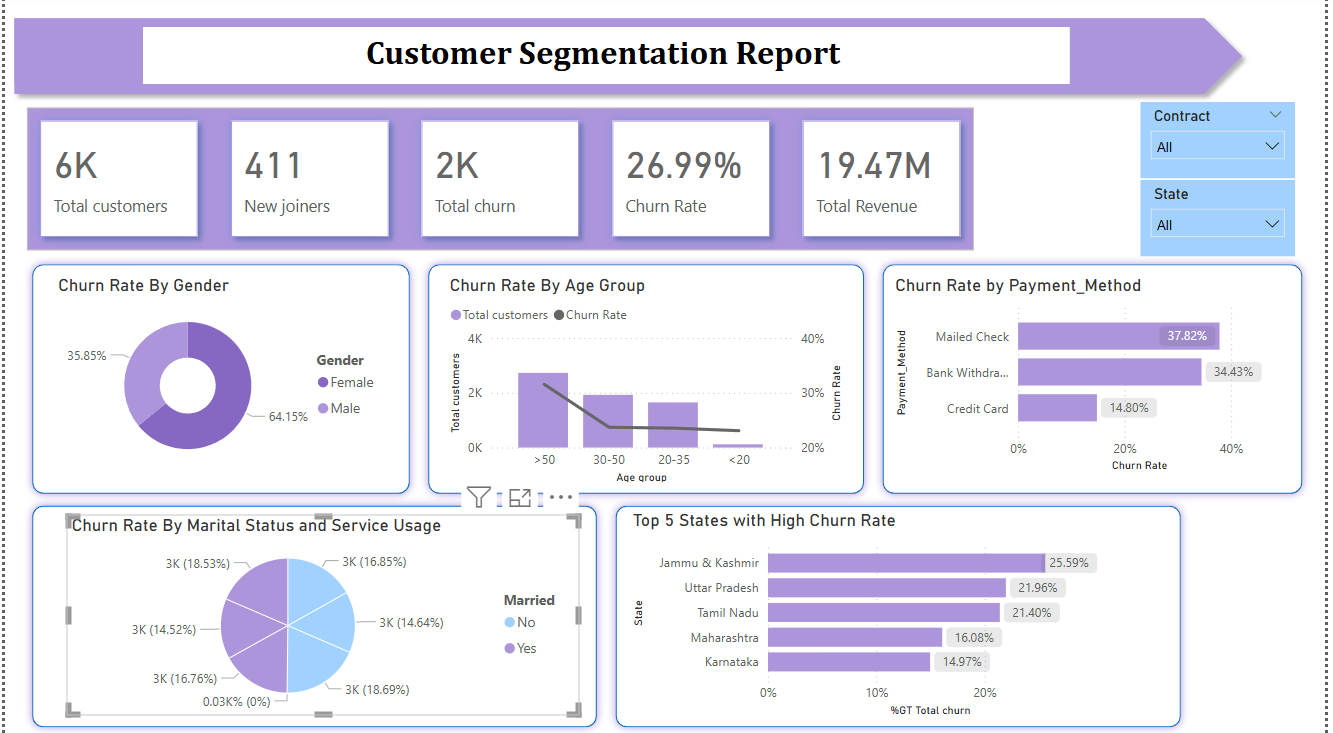

What the dashboard file says about the page in this screenshot:
{"tool":"powerbi","page":{"name":"Customer Seg","canvas":[1280,720],"ordinal":1},"visuals":[{"type":"shape","box":[17.1,253.9,384.2,240.8],"z":0},{"type":"donutChart","title":"Churn Rate By Gender","fields":{"Category":["prod_customer_churn.Gender"],"Y":["Exp_Measures.Total churn"]},"box":[46.3,272.8,326.8,195.6],"z":1000},{"type":"cardVisual","fields":{"Data":["Exp_Measures.Total customers","Exp_Measures.New joiners","Exp_Measures.Total churn","Exp_Measures.Churn Rate","Exp_Measures.Total Revenue"]},"box":[16.7,105.5,931.6,149.3],"z":2000},{"type":"shape","box":[0,14.2,1209.5,91.4],"z":3000},{"type":"shape","box":[401.3,253.9,440.8,240.8],"z":4000},{"type":"shape","box":[842.1,253.9,425,240.8],"z":5000},{"type":"shape","box":[17.1,488.2,565.8,232.9],"z":6000},{"type":"lineStackedColumnComboChart","title":"Churn Rate By Age Group","fields":{"Category":["Age group_table.Age group"],"Y":["Exp_Measures.Total customers"],"Y2":["Exp_Measures.Churn Rate"]},"box":[426.3,272.4,390.8,206.6],"z":7000},{"type":"barChart","fields":{"Category":["prod_customer_churn.Payment_Method"],"Y":["Exp_Measures.Churn Rate"]},"box":[858.2,272.8,377,195.6],"z":8000},{"type":"textbox","box":[133.8,32.2,899.4,55.3],"z":9000},{"type":"pieChart","title":"Churn Rate By Marital Status and Service Usage","fields":{"Y":["Exp_Measures.Total Phone serv users","Exp_Measures.Total Internet serv users","Exp_Measures.Total customers","Exp_Measures.Churn Rate"],"Category":["prod_customer_churn.Married"]},"box":[59.2,504.4,498,195.6],"z":10000},{"type":"shape","box":[584.2,487.7,566.1,232.9],"z":11000},{"type":"barChart","title":"Top 5 States with High Churn Rate","fields":{"Category":["prod_customer_churn.State"],"Y":["Exp_Measures.Total churn"]},"box":[604.7,500.5,468.4,204.6],"z":12000},{"type":"slicer","fields":{"Values":["prod_customer_churn.Contract"]},"box":[1102.5,105.4,150.2,73.8],"z":13000},{"type":"slicer","fields":{"Values":["Pivoting table.State"]},"box":[1102.5,180.4,150.2,73.8],"z":14000}]}

Visuals, with their boxes in screenshot pixels (x1, y1, x2, y2), scaled from the page's 1280x720 canvas onto the 1333x733 screenshot:
shape: rect(18, 258, 418, 504)
"Churn Rate By Gender" donutChart: rect(48, 278, 389, 477)
cardVisual - Exp_Measures.Total customers x Exp_Measures.New joiners: rect(17, 107, 988, 259)
shape: rect(0, 14, 1260, 108)
shape: rect(418, 258, 877, 504)
shape: rect(877, 258, 1320, 504)
shape: rect(18, 497, 607, 732)
"Churn Rate By Age Group" lineStackedColumnComboChart: rect(444, 277, 851, 488)
barChart - prod_customer_churn.Payment_Method x Exp_Measures.Churn Rate: rect(894, 278, 1286, 477)
textbox: rect(139, 33, 1076, 89)
"Churn Rate By Marital Status and Service Usage" pieChart: rect(62, 514, 580, 713)
shape: rect(608, 497, 1198, 732)
"Top 5 States with High Churn Rate" barChart: rect(630, 510, 1118, 718)
slicer - prod_customer_churn.Contract: rect(1148, 107, 1305, 182)
slicer - Pivoting table.State: rect(1148, 184, 1305, 259)
